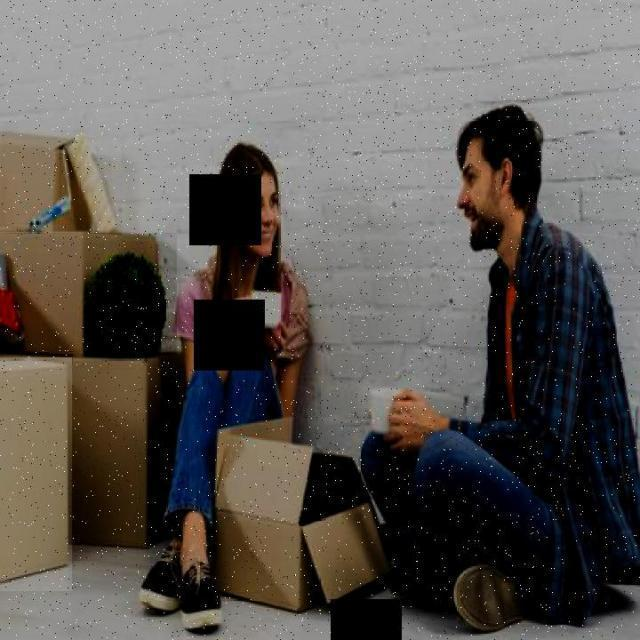box: (211, 425, 391, 615), (0, 232, 177, 366), (73, 355, 188, 553), (0, 357, 72, 591), (2, 129, 112, 225)
